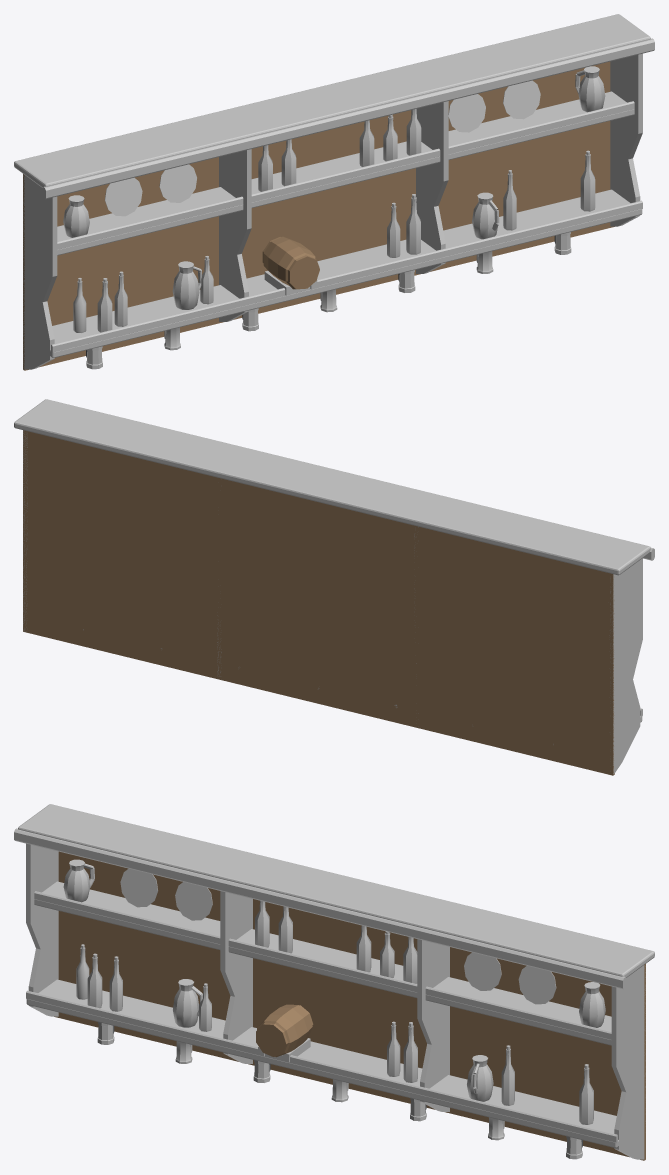
The model's file is furn_backbar.glb.
3 renders of one model, top to bottom at view 1: azimuth 30°, elevation 25°; view 2: azimuth 150°, elevation 25°; view 3: azimuth 330°, elevation 25°, orthographic.
Parts seen in each view (by area): view 1: furn_backbar; view 2: furn_backbar; view 3: furn_backbar.
Boxes of the visible parts, left/top/right/bottom form: furn_backbar: left=14, top=14, right=654, bottom=370; furn_backbar: left=14, top=399, right=654, bottom=775; furn_backbar: left=14, top=804, right=654, bottom=1160.
Size of the model in its own units: 3.9 by 1.3 by 0.39.
